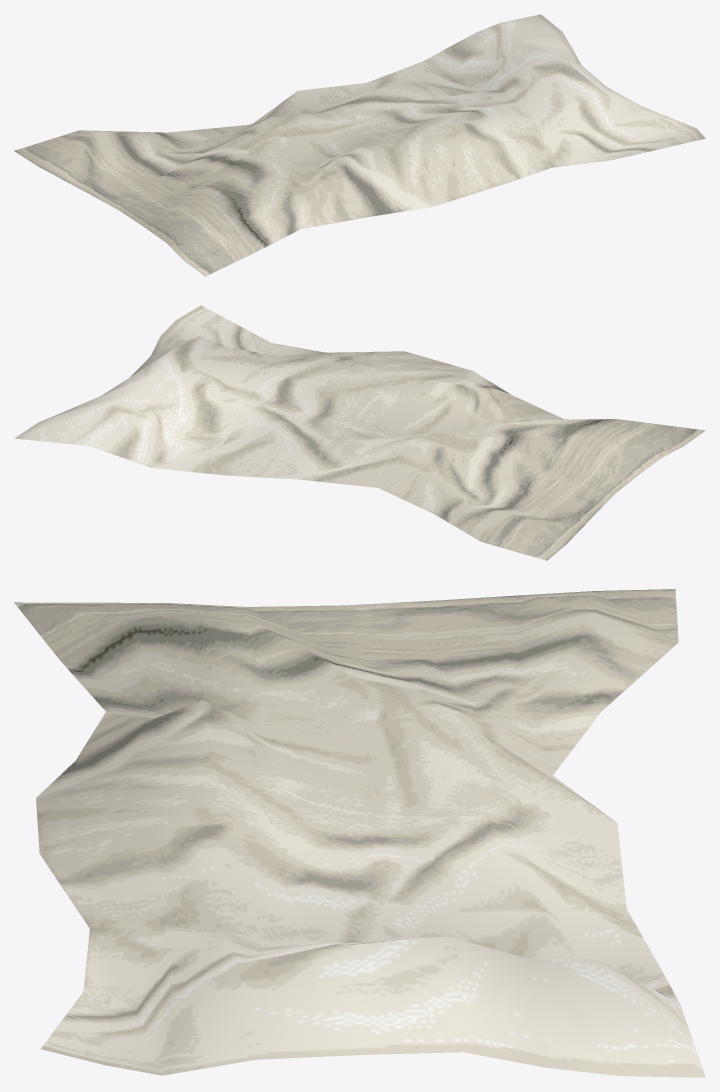
File: Towel.fbx
3 views of the same model, one above another, from view 1: azimuth 30°, elevation 25°; view 2: azimuth 150°, elevation 25°; view 3: azimuth 270°, elevation 25° (orthographic). The views are drawn at different scales.
Parts seen in each view (by area): view 1: Towel; view 2: Towel; view 3: Towel.
Part boxes in pixels (x1,y1,x2,y2): Towel: [14, 14, 705, 276]; Towel: [14, 305, 705, 560]; Towel: [14, 589, 705, 1077].
Bounding box in the file's own units: 426 × 40.76 × 255.
